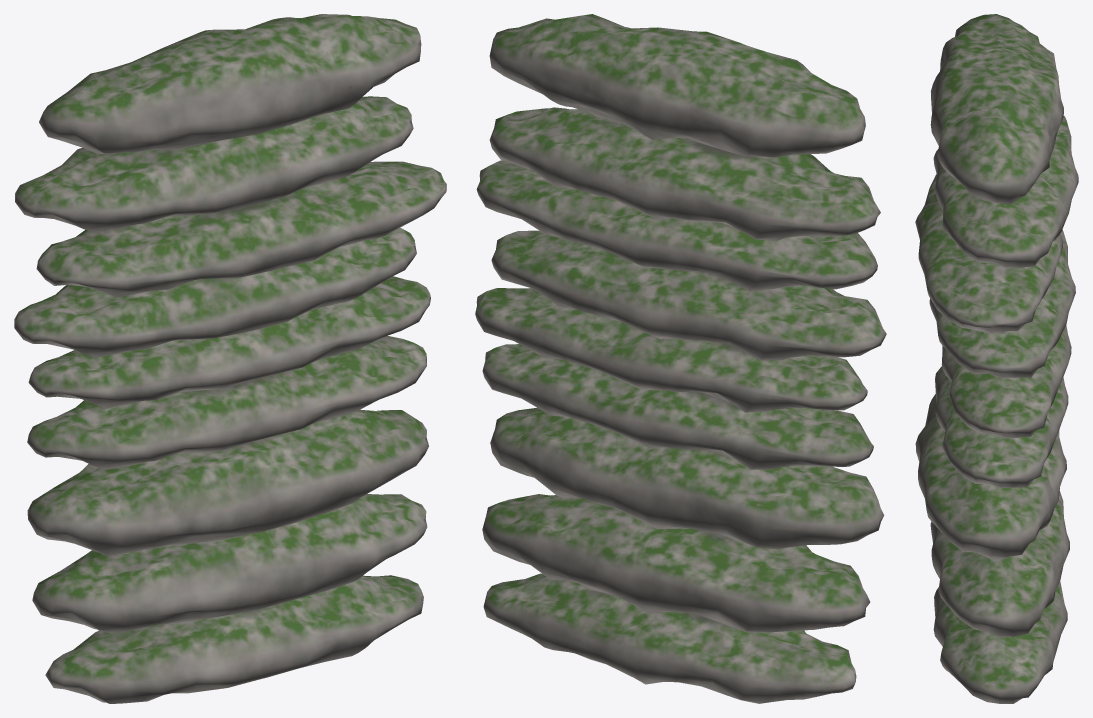
Rendered from cliff_wall.glb.
3 views of the same model, side by side, from view 1: azimuth 30°, elevation 25°; view 2: azimuth 150°, elevation 25°; view 3: azimuth 270°, elevation 25° (orthographic). The views are drawn at different scales.
Visible parts, largest first — view 1: CliffWall; view 2: CliffWall; view 3: CliffWall.
Boxes of the visible parts, bbox=[...] form: CliffWall: bbox=[14, 14, 446, 703]; CliffWall: bbox=[475, 14, 886, 703]; CliffWall: bbox=[915, 14, 1078, 703].
Size of the model in its own units: 10.89 by 15.97 by 4.13.
1 material, 1 textured.
